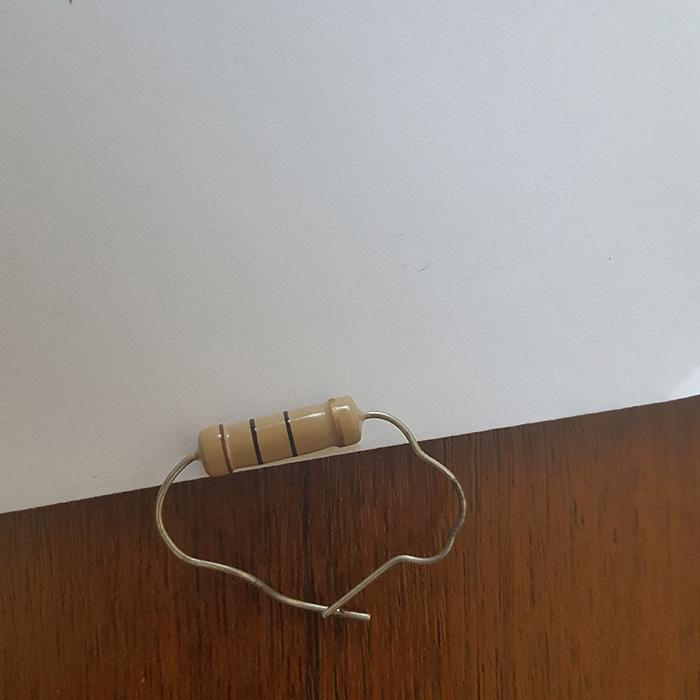resistor: (195, 394, 361, 476)
